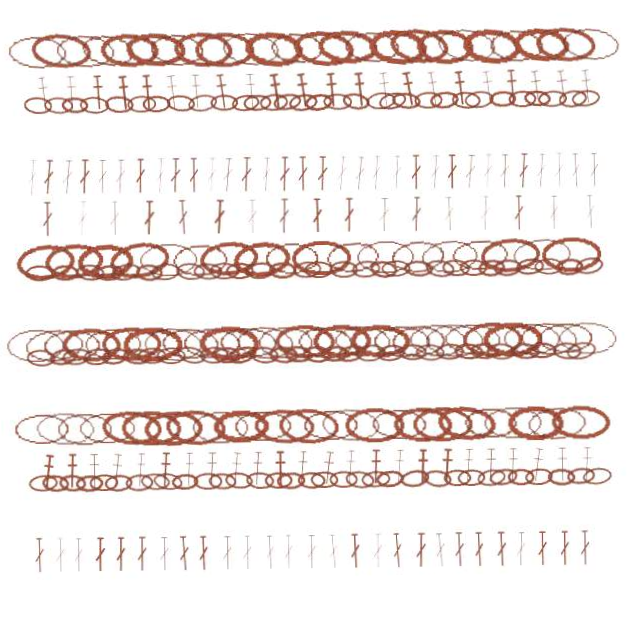chain: (438, 26, 503, 69), (108, 236, 172, 279), (81, 26, 143, 70), (391, 26, 454, 69), (295, 27, 359, 69), (33, 27, 96, 68), (434, 405, 497, 446), (223, 27, 285, 68), (370, 27, 432, 68), (246, 28, 308, 68), (464, 28, 526, 68), (538, 28, 600, 68), (563, 28, 625, 68), (15, 238, 77, 278), (232, 238, 294, 278), (57, 28, 120, 67), (22, 322, 85, 361), (163, 406, 226, 445), (318, 406, 381, 445), (515, 28, 576, 68), (128, 28, 190, 67), (320, 28, 382, 67), (518, 322, 580, 361), (99, 406, 161, 445), (276, 406, 338, 445), (9, 29, 72, 67), (480, 239, 543, 277), (176, 28, 237, 67), (44, 238, 105, 277), (199, 238, 260, 277), (234, 322, 295, 361), (524, 407, 586, 445), (151, 28, 211, 67), (389, 238, 449, 277), (103, 29, 164, 67), (512, 239, 573, 277), (142, 323, 203, 361), (159, 323, 220, 361), (217, 323, 278, 361), (294, 323, 355, 361), (332, 323, 393, 361), (252, 407, 313, 445), (274, 323, 336, 360), (271, 29, 331, 67), (346, 29, 406, 67), (419, 29, 479, 67), (324, 239, 384, 277), (420, 239, 480, 277), (450, 239, 511, 276), (198, 323, 259, 360), (442, 323, 503, 360), (33, 407, 94, 444), (119, 407, 180, 444), (491, 29, 550, 67), (77, 239, 136, 277), (407, 323, 467, 360), (368, 407, 428, 444), (391, 407, 451, 444), (198, 30, 259, 66), (61, 324, 122, 360), (349, 324, 410, 360), (424, 324, 485, 360), (460, 407, 519, 444), (505, 407, 564, 444), (181, 324, 241, 360), (371, 324, 431, 360), (501, 324, 561, 360), (557, 324, 617, 360), (549, 408, 609, 444), (292, 240, 353, 275), (356, 240, 417, 275), (5, 324, 66, 359), (101, 324, 162, 359), (462, 324, 523, 359), (343, 408, 404, 443), (411, 408, 472, 443), (171, 240, 230, 276), (389, 324, 448, 360), (142, 408, 201, 444), (139, 240, 199, 275), (542, 240, 602, 275), (41, 324, 101, 359), (83, 324, 143, 359), (122, 324, 182, 359), (312, 324, 372, 359), (482, 324, 542, 359), (76, 408, 136, 443), (189, 408, 249, 443), (231, 408, 291, 443), (481, 408, 541, 443), (256, 324, 315, 359), (536, 324, 595, 359), (11, 408, 70, 443), (54, 408, 113, 443), (300, 408, 359, 443), (264, 240, 322, 275), (211, 408, 269, 443), (226, 342, 258, 366), (175, 342, 207, 365), (565, 343, 597, 365), (380, 91, 411, 113), (335, 343, 366, 365), (344, 91, 374, 113), (190, 91, 221, 112), (275, 91, 306, 112), (111, 259, 142, 280), (150, 469, 181, 490), (397, 469, 428, 490), (486, 469, 517, 490), (575, 259, 605, 280), (48, 343, 78, 364), (100, 343, 130, 364), (425, 260, 456, 280), (342, 470, 373, 490), (420, 470, 451, 490), (474, 470, 505, 490), (291, 92, 321, 112), (394, 92, 424, 112), (561, 92, 591, 112), (574, 92, 604, 112), (580, 470, 610, 490), (234, 92, 263, 112), (307, 92, 336, 112), (370, 260, 399, 280), (376, 344, 405, 364), (26, 92, 56, 111), (107, 92, 137, 111), (169, 92, 199, 111), (262, 92, 292, 111), (369, 92, 399, 111), (432, 92, 462, 111), (467, 92, 497, 111), (76, 260, 106, 279), (151, 260, 181, 279), (176, 260, 206, 279), (246, 260, 276, 279), (293, 260, 323, 279), (352, 260, 382, 279), (516, 260, 546, 279), (61, 344, 91, 363), (355, 344, 385, 363), (453, 344, 483, 363), (26, 470, 56, 489), (138, 470, 168, 489), (243, 470, 273, 489), (564, 470, 594, 489), (82, 93, 113, 111), (526, 92, 555, 111), (442, 260, 471, 279), (82, 344, 111, 363), (283, 344, 312, 363), (469, 344, 498, 363), (39, 470, 68, 489), (56, 470, 85, 489), (222, 470, 251, 489), (373, 470, 402, 489), (522, 470, 551, 489), (454, 93, 484, 111), (95, 261, 125, 279), (404, 261, 434, 279), (268, 345, 298, 363), (510, 345, 540, 363), (552, 345, 582, 363), (47, 93, 76, 111), (246, 93, 275, 111), (326, 93, 355, 111), (541, 93, 570, 111), (194, 261, 223, 279), (478, 261, 507, 279), (494, 261, 523, 279), (26, 345, 55, 363), (122, 345, 151, 363), (302, 345, 331, 363), (415, 345, 444, 363), (486, 345, 515, 363), (102, 471, 131, 489), (274, 471, 303, 489), (295, 471, 324, 489), (359, 471, 388, 489), (210, 261, 240, 278), (64, 93, 92, 111), (136, 261, 164, 279), (556, 261, 584, 279), (250, 345, 278, 363), (321, 345, 349, 363), (73, 471, 101, 489), (123, 471, 151, 489), (169, 471, 197, 489), (206, 471, 234, 489), (545, 471, 573, 489), (130, 93, 159, 110), (145, 93, 174, 110), (417, 93, 446, 110), (511, 93, 540, 110), (26, 261, 55, 278), (226, 261, 255, 278), (305, 261, 334, 278), (330, 261, 359, 278), (382, 261, 411, 278), (535, 261, 564, 278), (137, 345, 166, 362), (156, 345, 185, 362), (199, 345, 228, 362), (435, 345, 464, 362), (527, 345, 556, 362), (87, 471, 116, 488), (191, 471, 220, 488), (262, 471, 291, 488), (327, 471, 356, 488), (213, 93, 241, 110), (492, 93, 520, 110), (52, 261, 80, 278), (269, 261, 297, 278), (460, 261, 488, 278), (212, 345, 240, 362), (398, 345, 426, 362), (308, 471, 336, 488), (441, 471, 469, 488), (455, 471, 483, 488), (505, 471, 533, 488)
double: (62, 156, 77, 191), (222, 156, 237, 191), (465, 156, 480, 191), (430, 534, 445, 569), (355, 156, 369, 192), (155, 156, 169, 191), (207, 156, 221, 191), (337, 156, 351, 191), (430, 156, 444, 191), (483, 156, 497, 191), (77, 198, 91, 233), (214, 198, 228, 233), (174, 534, 188, 569), (28, 156, 41, 191), (44, 156, 57, 191), (80, 156, 93, 191), (116, 156, 129, 191), (171, 156, 184, 191), (242, 156, 255, 191), (262, 156, 275, 191), (280, 156, 293, 191), (318, 156, 331, 191), (372, 156, 385, 191), (500, 156, 513, 191), (519, 156, 532, 191), (537, 156, 550, 191), (144, 198, 157, 233), (178, 198, 191, 233), (279, 198, 292, 233), (379, 198, 392, 233), (444, 198, 457, 233), (480, 198, 493, 233), (324, 534, 337, 569), (388, 534, 401, 569), (450, 534, 463, 569), (492, 534, 505, 569), (190, 156, 202, 191), (299, 156, 311, 191), (393, 156, 405, 191), (412, 156, 424, 191), (448, 156, 460, 191), (555, 156, 567, 191), (572, 156, 584, 191), (43, 198, 55, 233), (110, 198, 122, 233), (248, 198, 260, 233), (313, 198, 325, 233), (412, 198, 424, 233), (586, 198, 598, 233), (51, 534, 63, 569), (91, 534, 103, 569), (133, 534, 145, 569), (155, 534, 167, 569), (218, 534, 230, 569), (238, 534, 250, 569), (261, 534, 273, 569), (346, 534, 358, 569), (369, 534, 381, 569), (412, 534, 424, 569), (470, 534, 482, 569), (512, 534, 524, 569), (576, 534, 588, 569), (99, 156, 110, 191), (137, 156, 148, 191), (591, 156, 602, 191), (345, 198, 356, 233), (515, 198, 526, 233), (550, 198, 561, 233), (31, 534, 42, 569), (70, 534, 81, 569), (112, 534, 123, 569), (195, 534, 206, 569), (280, 534, 291, 569), (303, 534, 314, 569), (534, 534, 545, 569), (556, 534, 567, 569)
half_double: (270, 72, 288, 108), (403, 72, 421, 108), (317, 450, 335, 486), (167, 72, 184, 108), (217, 72, 234, 108), (298, 72, 315, 108), (428, 72, 445, 108), (455, 72, 472, 108), (483, 72, 500, 108), (531, 72, 548, 108), (557, 72, 574, 108), (527, 450, 544, 486), (39, 72, 55, 108), (119, 72, 135, 108), (327, 72, 343, 108), (355, 72, 371, 108), (380, 72, 396, 108), (582, 72, 598, 108), (38, 450, 54, 486), (107, 450, 123, 486), (226, 450, 242, 486), (246, 72, 262, 107), (437, 450, 453, 485), (67, 72, 82, 107), (94, 72, 109, 107), (143, 72, 158, 107), (192, 72, 207, 107), (508, 72, 523, 107), (131, 450, 146, 485), (156, 450, 171, 485), (202, 450, 217, 485), (248, 450, 263, 485), (293, 450, 308, 485), (341, 450, 356, 485), (390, 450, 405, 485), (459, 450, 474, 485), (481, 450, 496, 485), (63, 450, 77, 485), (85, 450, 99, 485), (180, 450, 194, 485), (367, 450, 381, 485), (414, 450, 428, 485), (504, 450, 518, 485), (578, 450, 592, 485), (272, 450, 285, 485), (554, 450, 567, 485)
